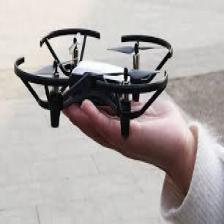drone: (14, 25, 173, 130)
